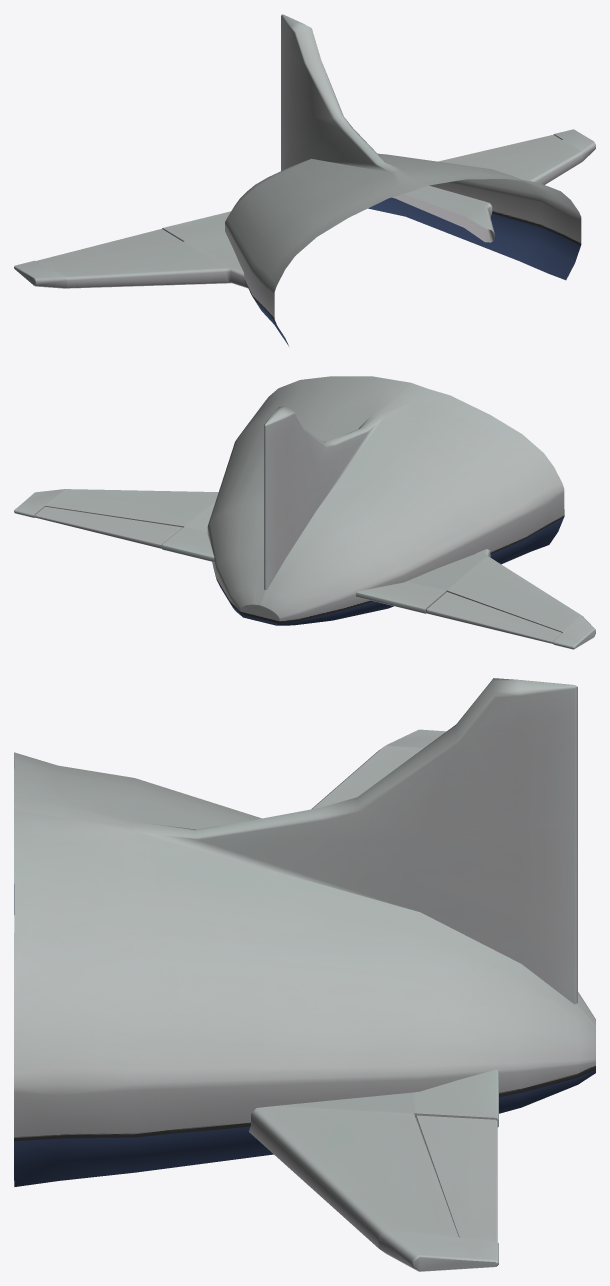
Rendered from Plane_tail_wide.fbx.
The picture shows the model from 3 angles, top to bottom: view 1: azimuth 30°, elevation 25°; view 2: azimuth 150°, elevation 25°; view 3: azimuth 270°, elevation 25°; orthographic projection. The views are drawn at different scales.
Parts seen in each view (by area): view 1: env_asset_aeroplane_tail_large; view 2: env_asset_aeroplane_tail_large; view 3: env_asset_aeroplane_tail_large.
Part boxes in pixels (left/top/right/bottom): env_asset_aeroplane_tail_large: left=14, top=14, right=595, bottom=345; env_asset_aeroplane_tail_large: left=14, top=376, right=595, bottom=649; env_asset_aeroplane_tail_large: left=14, top=678, right=595, bottom=1271.
Bounding box in the file's own units: 136 × 45.3 × 63.27.
